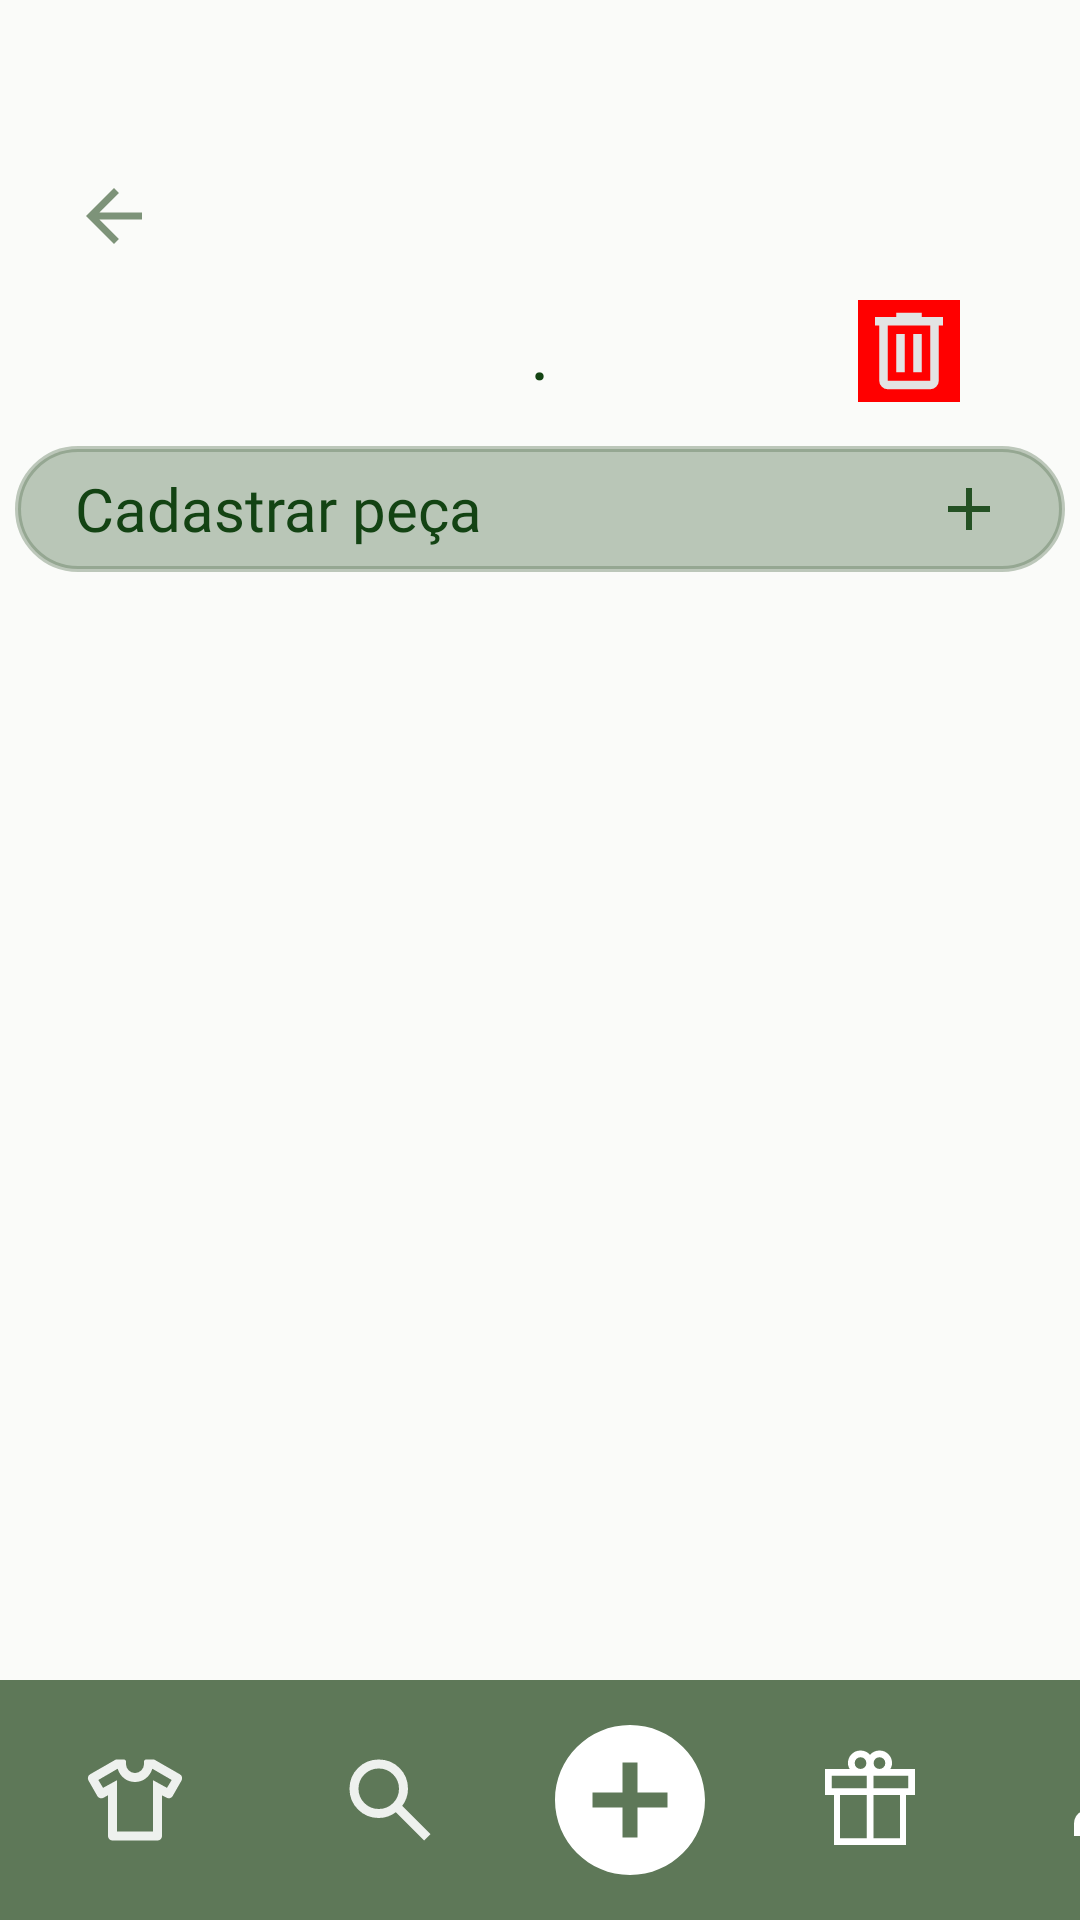

Where to tap for icons on this 1080w x 1920h app screen, as (x,y):
add circle: (630,1800)
iconedoacao: (870,1797)
search branco: (390,1800)
trashicon: (909,351)
